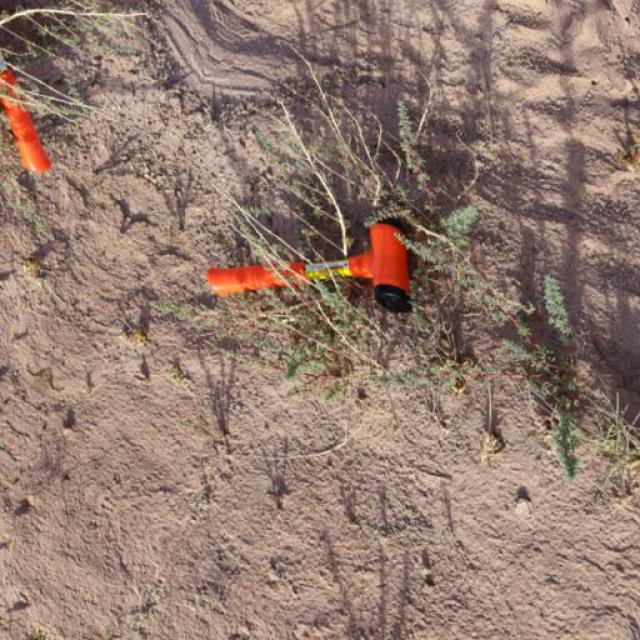mallet: (206, 215, 416, 313)
